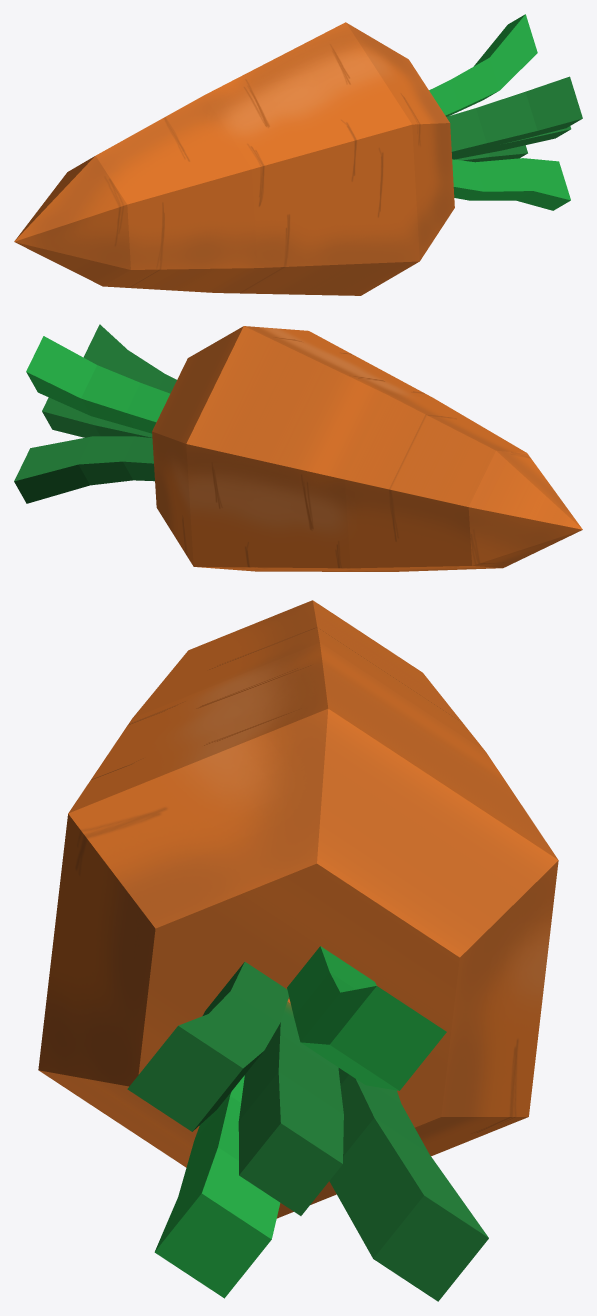
Rendered from Carrot_ani New.fbx.
The picture shows the model from 3 angles, top to bottom: view 1: azimuth 30°, elevation 25°; view 2: azimuth 150°, elevation 25°; view 3: azimuth 270°, elevation 25°; orthographic projection. The views are drawn at different scales.
Parts seen in each view (by area): view 1: Cylinder.003; view 2: Cylinder.003; view 3: Cylinder.003.
Part boxes in pixels (box(x1,y1,x2,y2)): Cylinder.003: box(14, 14, 582, 295); Cylinder.003: box(14, 324, 582, 571); Cylinder.003: box(38, 600, 558, 1301).
Bounding box in the file's own units: 545 × 252 × 232.
Materials: 4 (4 with a texture image).
